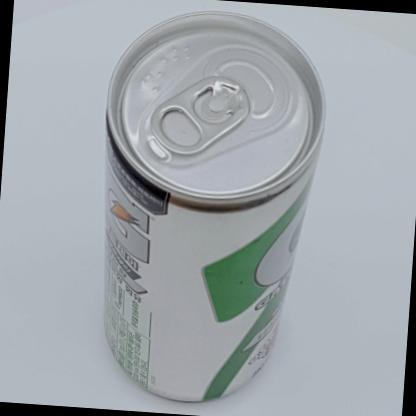alumunium_can: (82, 1, 332, 415)
